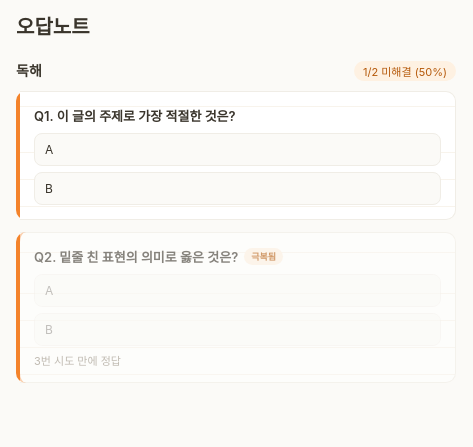
Test case: Notebook page › submits a retry via POST /api/attempts and shows the result
Check: the text "Q1. 이 글의 주제로 가장 적절한 것은?" is shown, box x1=34 y1=106 x2=236 y2=125
What coordinates should you click on to do the following:
click the button "A" below "이 글의 주제로 가장 적절한 것은?"
I would click on:
 (49, 150)
Its box is x1=34 y1=133 x2=441 y2=166.
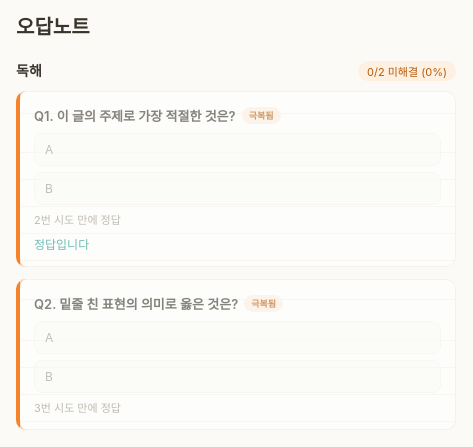
Check: the text "정답입니다" is shown, box x1=34 y1=237 x2=89 y2=252
